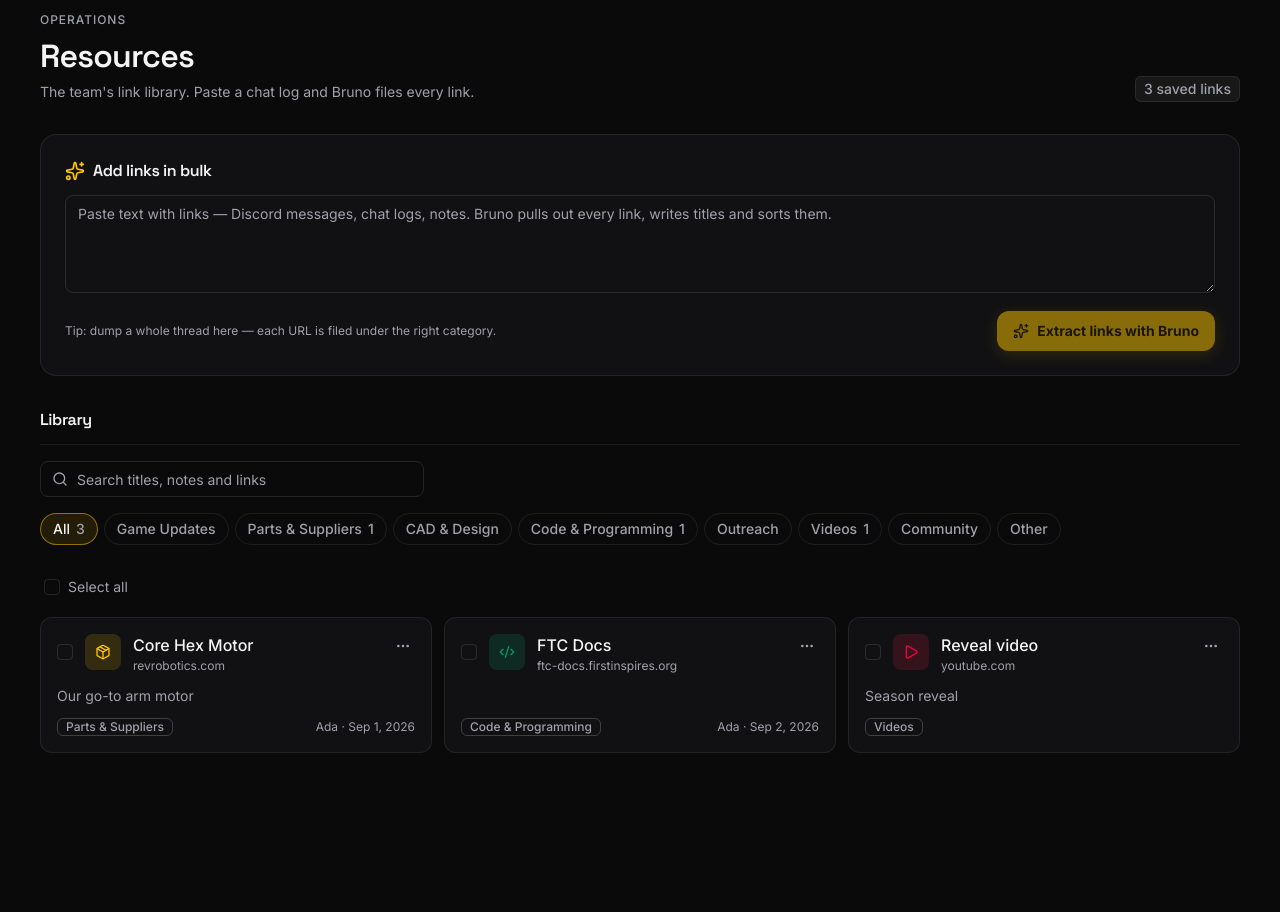
Scenario: Modern Resources › lists links with category chips (counts) and search
expect the link "Core Hex Motor" is shown: met, box [133,635,254,655]
expect the text "3 saved links" is shown: met, box [1135,76,1240,102]
Step 1. Click the radio button labelled "Videos 1" → click(840, 529), box [798,513,882,545]
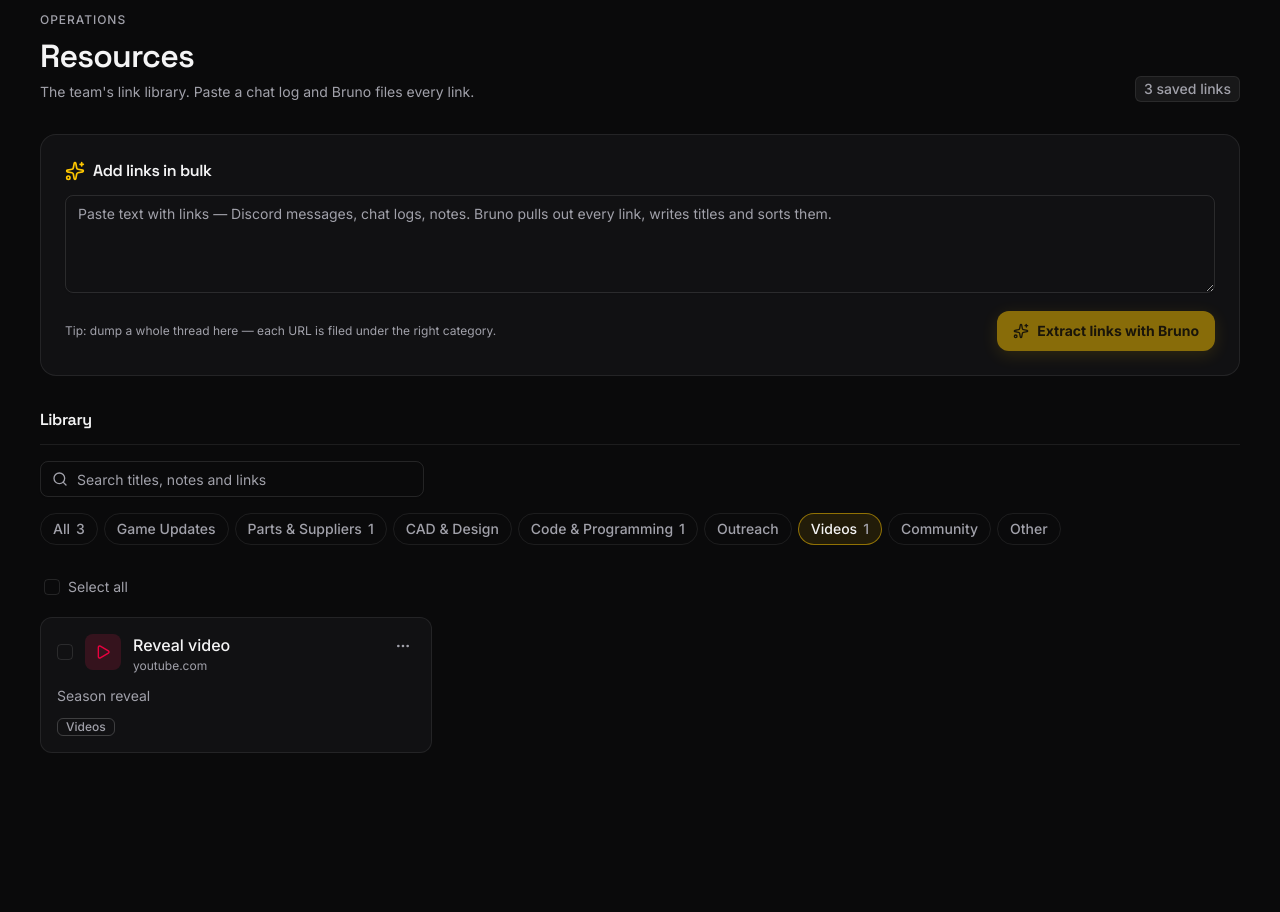
expect the link "Reveal video" is shown: met, box [133,635,230,655]
expect the link "Core Hex Motor" is gone: met
Step 2. Click the radio button labelled "All 3" → click(69, 529), box [40,513,98,545]
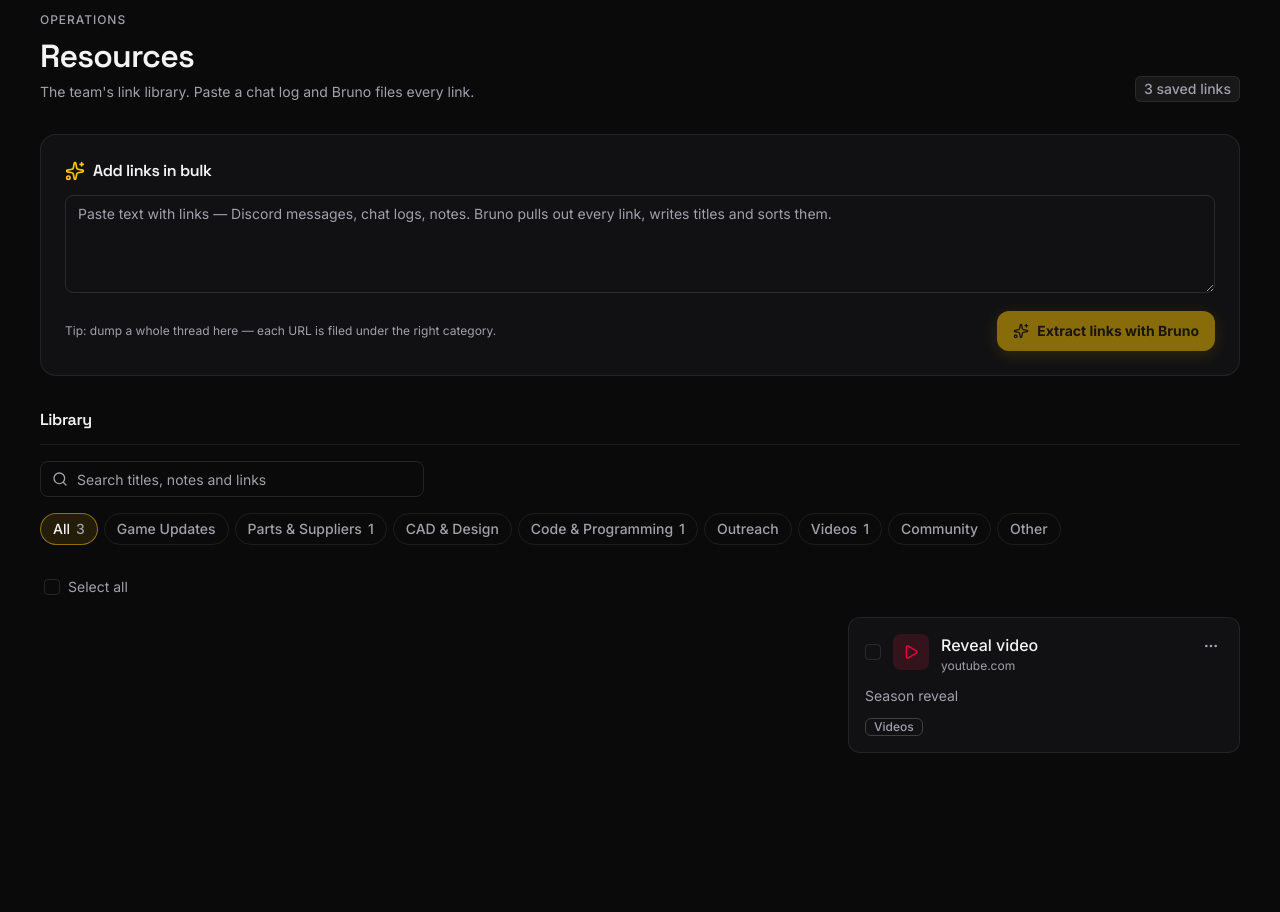
Step 3. Type "firstinspires" into the field named "Search resources" → (232, 479), box [40,461,424,497]
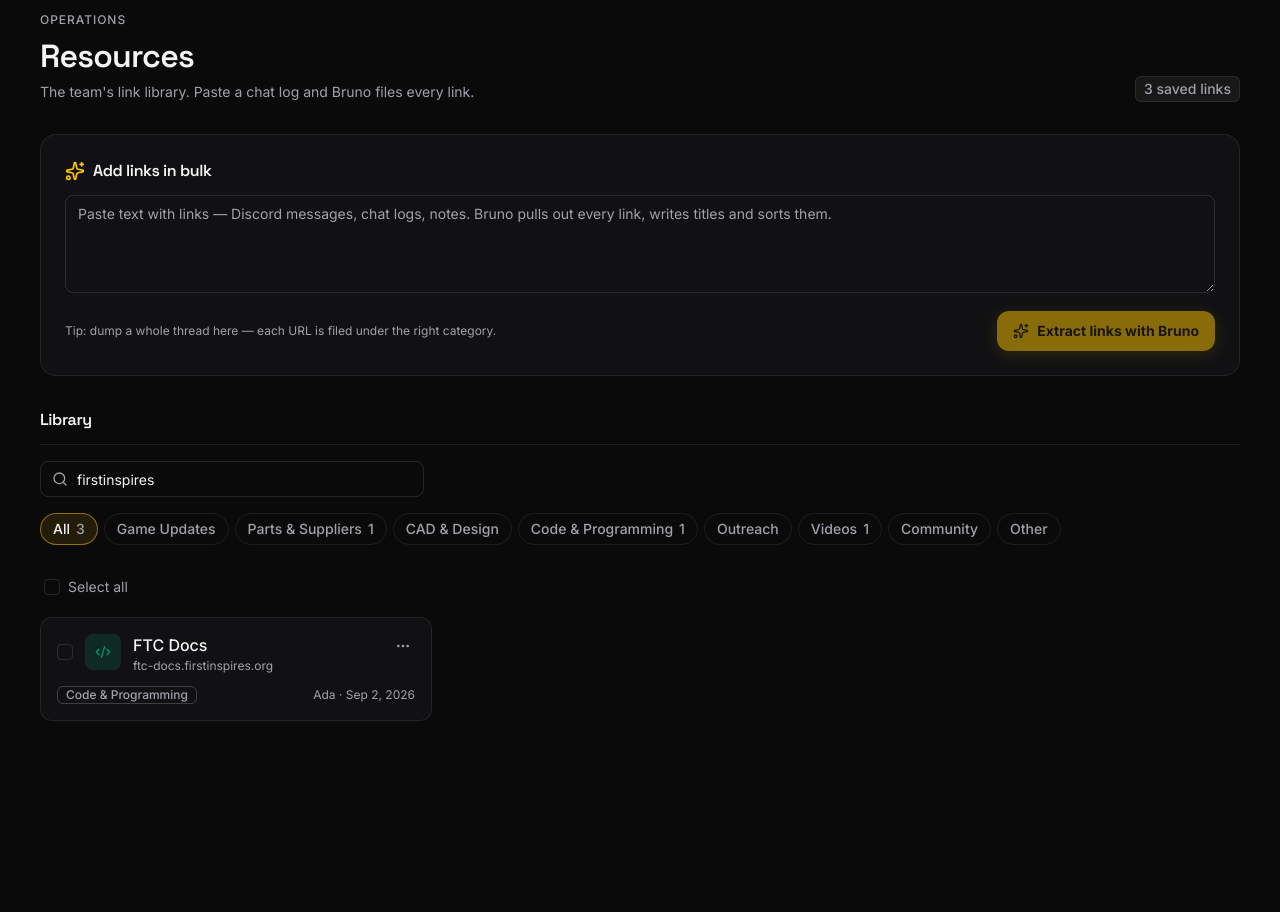
expect the link "FTC Docs" is shown: met, box [133,635,208,655]
expect the link "Reveal video" is gone: met
